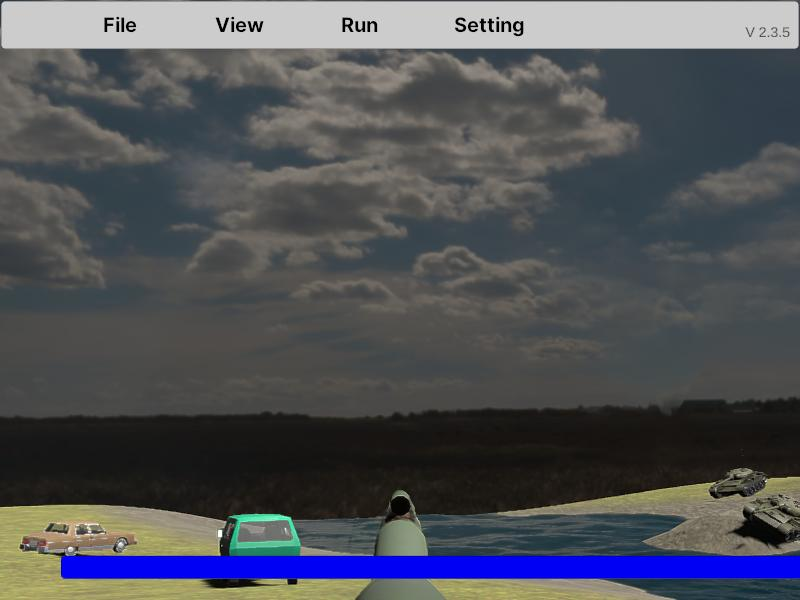Tank: (743, 495, 800, 542), (708, 467, 767, 499), (707, 467, 766, 498)
car: (218, 513, 301, 589), (19, 521, 138, 559)
